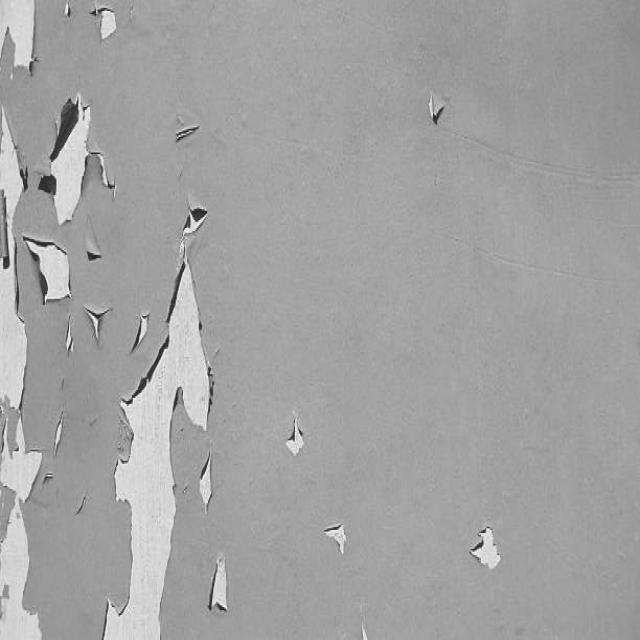peeling paint: (0, 0, 235, 640), (281, 394, 377, 640), (452, 498, 524, 599), (418, 68, 461, 158)
